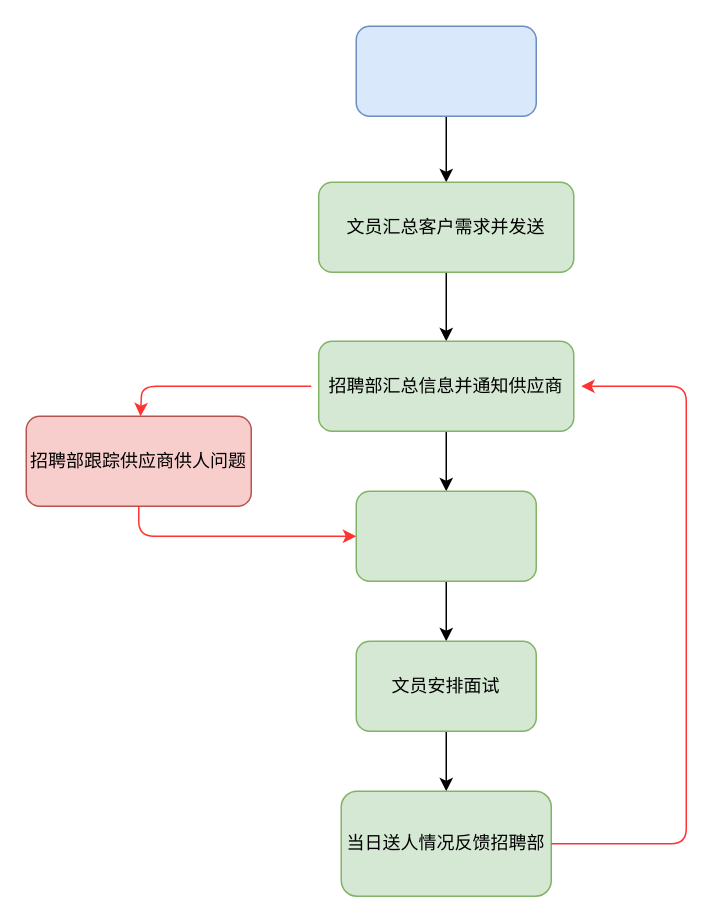
The diagram is 725 pixels wide and 923 high, and some of its shapes have lost their labels. The shapes that lost their labels are listed below. From the top down, each one's centre as x and y in pixels, then its label:
At point 445,70: "客户发起需求".
At point 445,535: "供应商招和送人".
